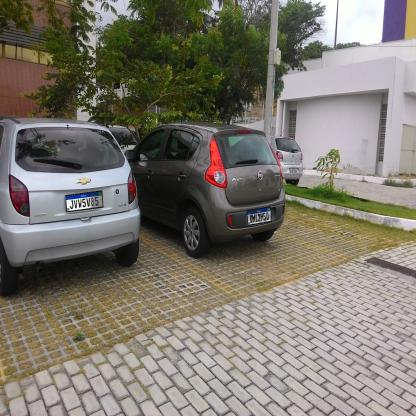PlacaM: (66, 190, 104, 212), (247, 207, 272, 226)
